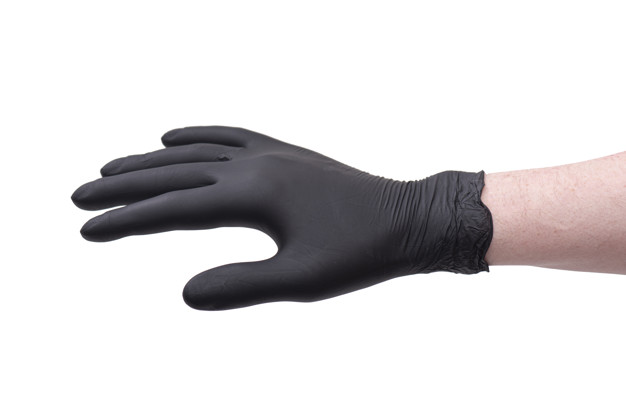gloves: (70, 125, 490, 314)
